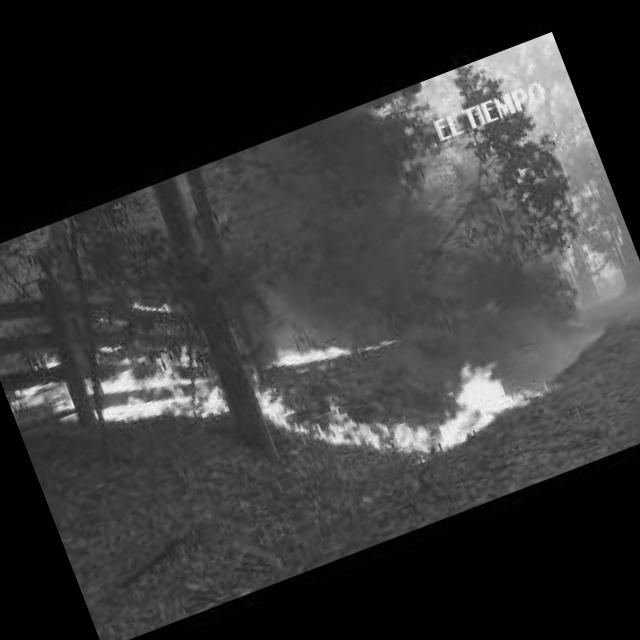fire: (304, 327, 539, 492), (80, 324, 229, 453), (247, 360, 306, 442), (269, 326, 351, 380), (11, 374, 78, 436), (129, 290, 173, 327), (355, 330, 399, 358), (38, 346, 64, 370)
